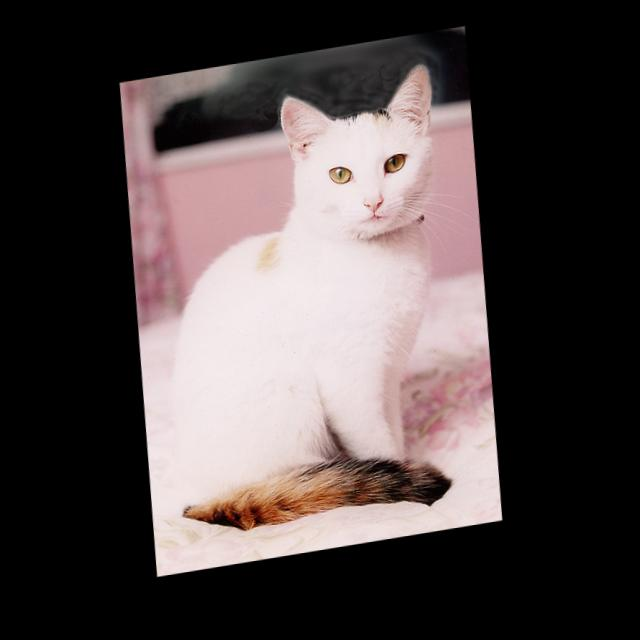animals: (283, 71, 435, 228)
